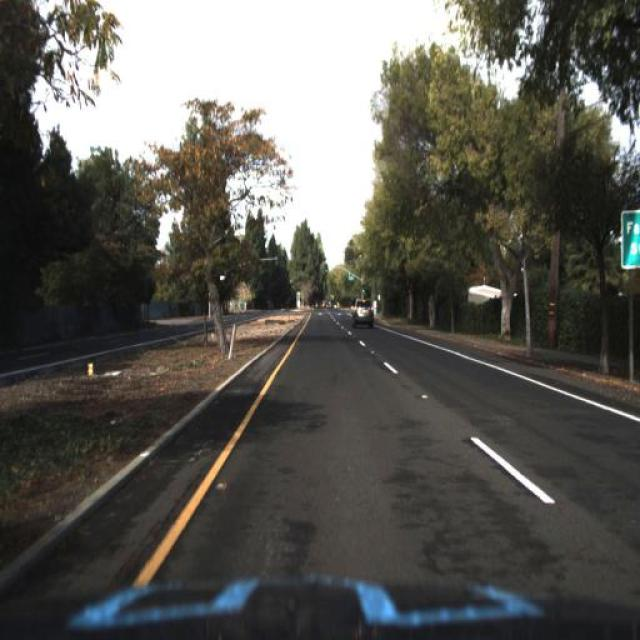car: (353, 295, 376, 329)
trafficLight-GreenLeft: (322, 260, 329, 280), (360, 277, 366, 297)
